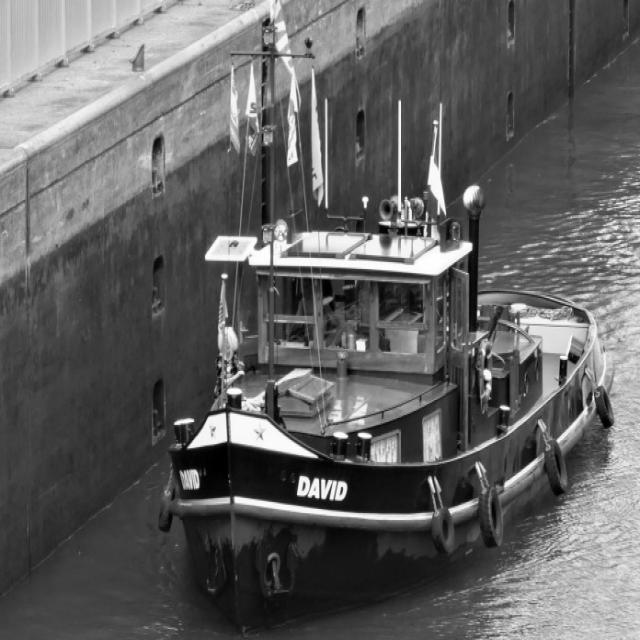tugboat: (155, 183, 619, 640)
